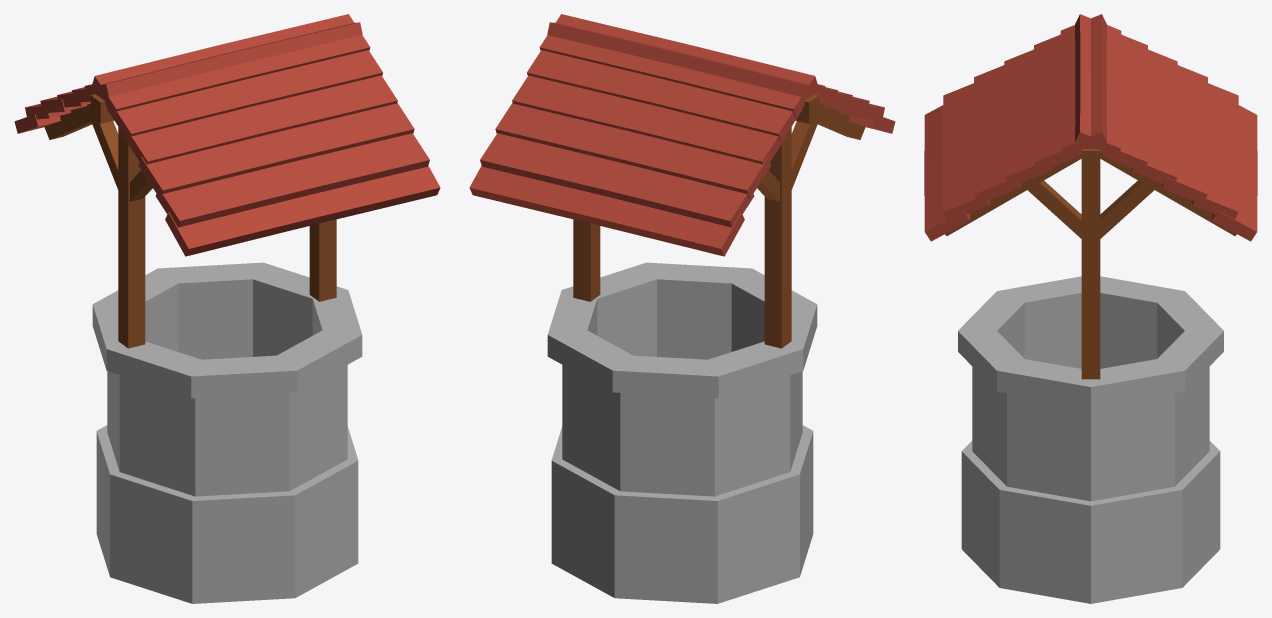
File: Well.fbx
3 renders of one model, left to right at view 1: azimuth 30°, elevation 25°; view 2: azimuth 150°, elevation 25°; view 3: azimuth 270°, elevation 25°, orthographic. The views are drawn at different scales.
Visible parts, largest first — view 1: Well; view 2: Well; view 3: Well.
Boxes of the visible parts, bbox=[...] form: Well: bbox=[14, 14, 440, 603]; Well: bbox=[469, 14, 895, 603]; Well: bbox=[924, 14, 1257, 603].
Size of the model in its own units: 257 by 465 by 295.
